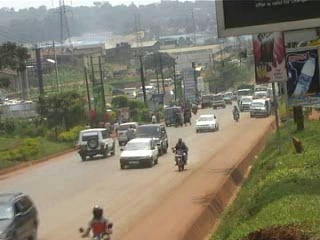Car: (0, 190, 42, 238), (118, 136, 162, 172), (76, 126, 116, 160), (135, 120, 170, 155), (114, 120, 144, 147), (194, 112, 222, 133), (222, 95, 232, 104)
Motorcycle: (72, 205, 118, 238), (170, 138, 191, 173), (230, 104, 241, 122), (126, 125, 135, 143), (190, 99, 200, 114)
